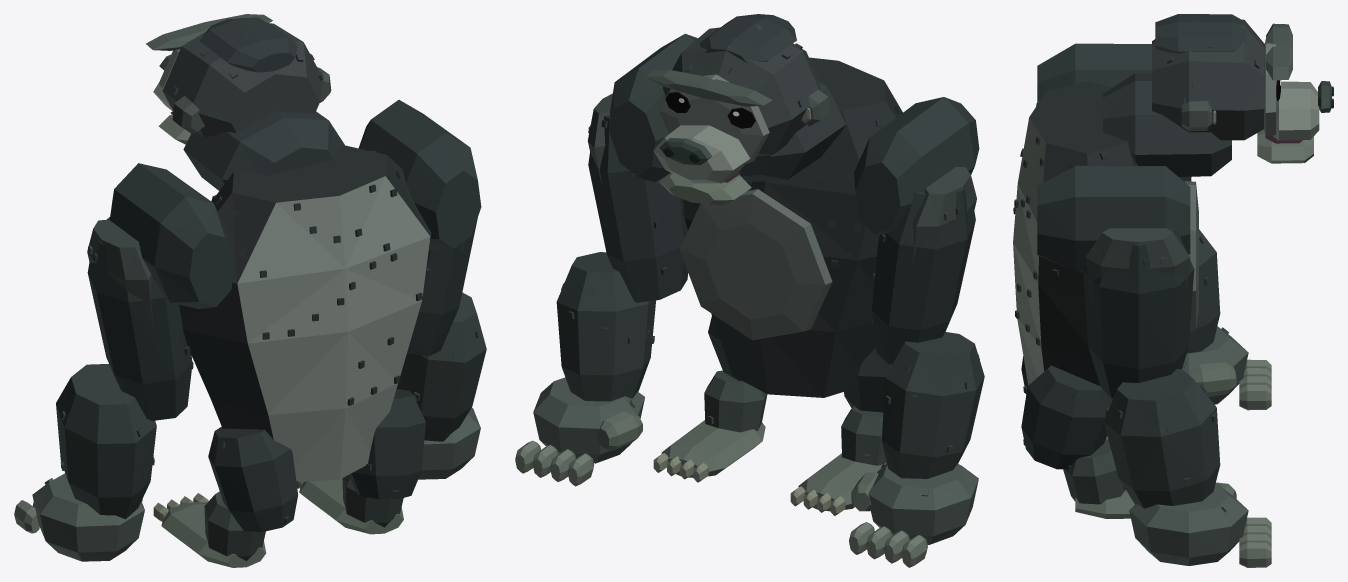
The model's file is Gorilla.fbx.
3 views of the same model, side by side, from view 1: azimuth 30°, elevation 25°; view 2: azimuth 150°, elevation 25°; view 3: azimuth 270°, elevation 25° (orthographic). The views are drawn at different scales.
Visible parts, largest first — view 1: Import3D_Core, Import3D_Head, Import3D_ArmL, Import3D_ElbowL, Import3D_Neck, Import3D_LegBL, Import3D_ElbowR, Import3D_WristL, Import3D_LegBR, Import3D_KneeBL, Import3D_ArmR, Import3D_KneeBR (+2 smaller); view 2: Import3D_Core, Import3D_Head, Import3D_ArmL, Import3D_ElbowL, Import3D_ElbowR, Import3D_ArmR, Import3D_WristL, Import3D_WristR, Import3D_KneeBR, Import3D_KneeBL, Import3D_Neck, Import3D_Jaw (+2 smaller); view 3: Import3D_Core, Import3D_Head, Import3D_ArmR, Import3D_ElbowR, Import3D_WristR, Import3D_Neck, Import3D_LegBR, Import3D_WristL, Import3D_KneeBR, Import3D_ElbowL, Import3D_Jaw, Import3D_EarR.
Part boxes in pixels (x1,y1,x2,y2): Import3D_Core: [109, 100, 481, 482]; Import3D_Head: [146, 14, 323, 137]; Import3D_ArmL: [87, 217, 193, 420]; Import3D_ElbowL: [56, 364, 156, 519]; Import3D_Neck: [183, 111, 344, 190]; Import3D_LegBL: [208, 426, 299, 532]; Import3D_ElbowR: [396, 292, 486, 441]; Import3D_WristL: [14, 473, 144, 561]; Import3D_LegBR: [349, 389, 425, 499]; Import3D_KneeBL: [153, 491, 266, 567]; Import3D_ArmR: [407, 217, 477, 355]; Import3D_KneeBR: [298, 475, 403, 534]; Import3D_Core: [609, 33, 979, 397]; Import3D_Head: [646, 14, 820, 183]; Import3D_ArmL: [871, 167, 976, 364]; Import3D_ElbowL: [881, 332, 984, 478]; Import3D_ElbowR: [556, 252, 655, 401]; Import3D_ArmR: [588, 93, 687, 302]; Import3D_WristL: [849, 463, 978, 567]; Import3D_WristR: [515, 377, 644, 486]; Import3D_KneeBR: [653, 370, 767, 482]; Import3D_KneeBL: [790, 406, 886, 515]; Import3D_Neck: [739, 79, 845, 182]; Import3D_Jaw: [659, 172, 751, 205]; Import3D_Core: [1013, 43, 1198, 385]; Import3D_Head: [1152, 14, 1333, 140]; Import3D_ArmR: [1083, 227, 1194, 398]; Import3D_ElbowR: [1104, 369, 1220, 508]; Import3D_WristR: [1129, 482, 1271, 567]; Import3D_Neck: [1103, 73, 1231, 176]; Import3D_LegBR: [1021, 365, 1112, 469]; Import3D_WristL: [1182, 326, 1271, 410]; Import3D_KneeBR: [1063, 439, 1134, 518]; Import3D_ElbowL: [1187, 229, 1220, 353]; Import3D_Jaw: [1257, 129, 1313, 163]; Import3D_EarR: [1181, 101, 1216, 131].
Size of the model in its own units: 359 by 376 by 239.
1 material, 1 textured.
